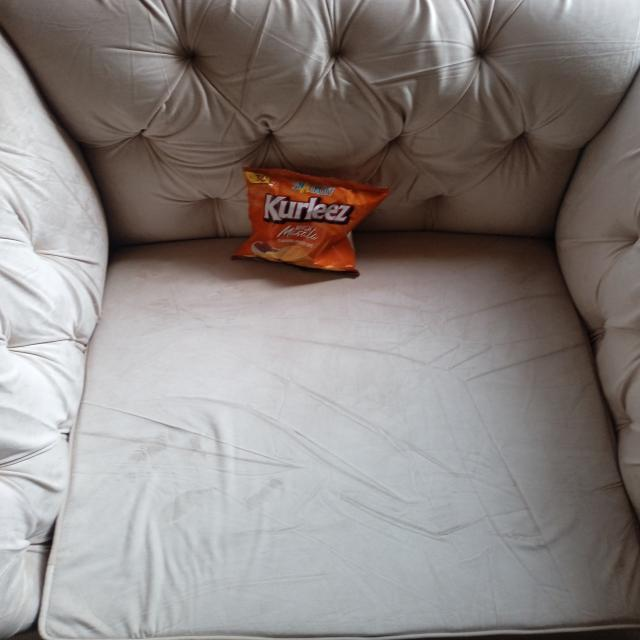Plastic: (238, 166, 382, 277)
